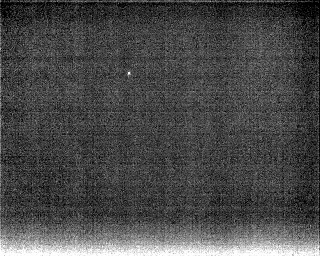BIRD: (125, 69, 133, 79)
